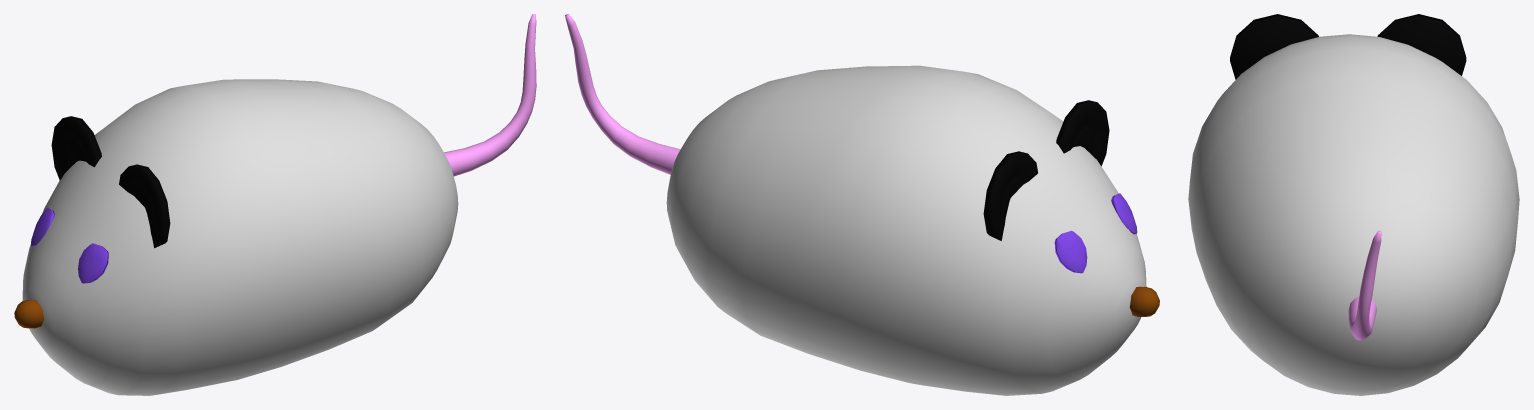
Rendered from rat.glb.
The picture shows the model from 3 angles, left to right: view 1: azimuth 30°, elevation 25°; view 2: azimuth 150°, elevation 25°; view 3: azimuth 270°, elevation 25°; orthographic projection. The views are drawn at different scales.
Parts seen in each view (by area): view 1: Body, Tail, Cylinder, Cylinder.001, L.Eye, Nose, R.Eye; view 2: Body, Tail, Cylinder.001, Cylinder, R.Eye, Nose, L.Eye; view 3: Body, Cylinder, Cylinder.001, Tail.
Part boxes in pixels (x1,y1,x2,y2): Body: (22,79,458,395); Tail: (444,14,536,176); Cylinder: (119,164,170,248); Cylinder.001: (51,116,101,180); L.Eye: (78,243,108,283); Nose: (14,300,44,328); R.Eye: (31,208,54,246); Body: (666,65,1146,395); Tail: (565,14,680,174); Cylinder.001: (983,151,1037,240); Cylinder: (1056,100,1109,166); R.Eye: (1054,230,1087,273); Nose: (1129,286,1159,316); L.Eye: (1111,193,1137,234); Body: (1188,34,1519,395); Cylinder: (1230,14,1318,79); Cylinder.001: (1377,14,1466,75); Tail: (1348,230,1381,340).
Bounding box in the file's own units: 3.63 × 1.73 × 1.8.
